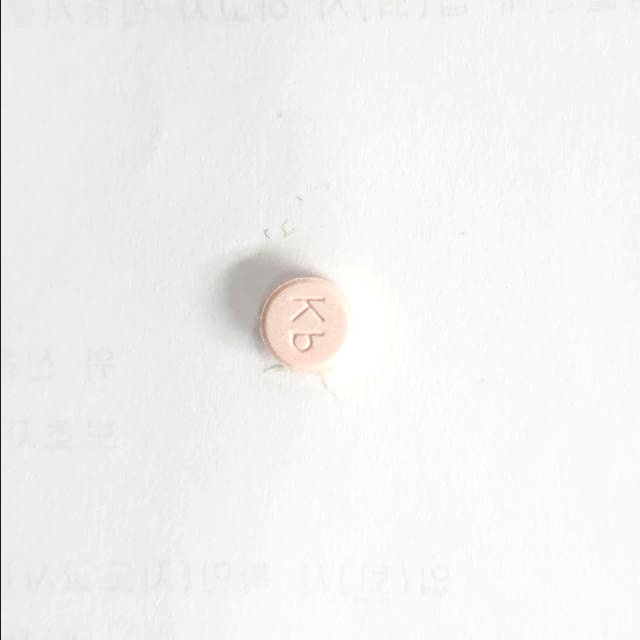pill: (252, 268, 362, 378)
